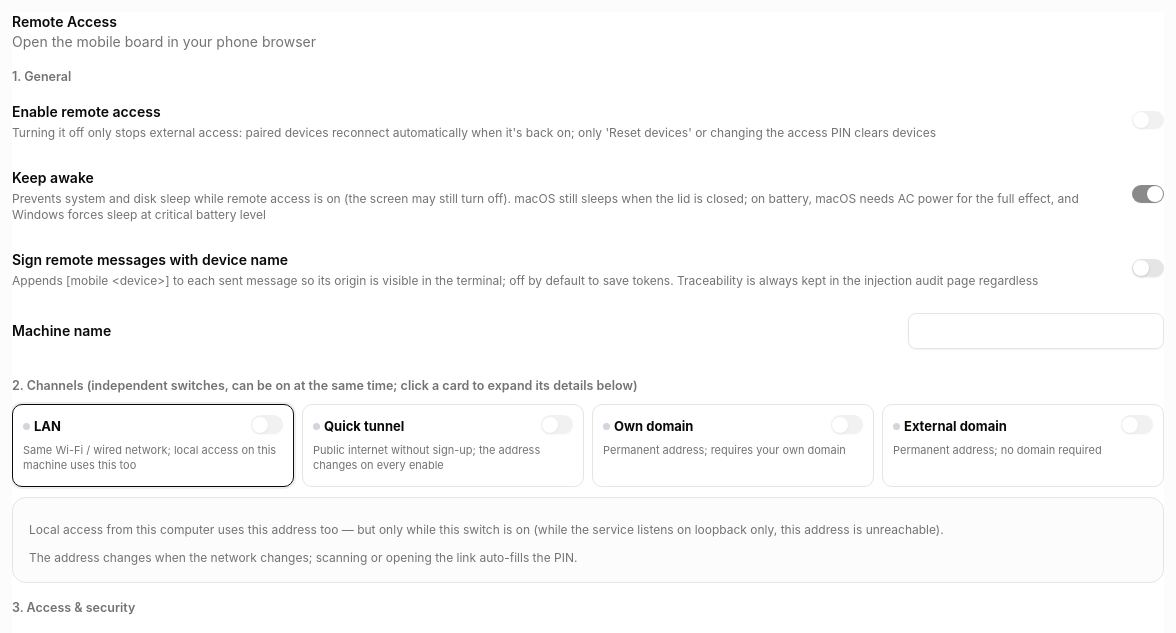
Test: RemoteSection 自有域名：Token 保存与教程 popover（M5 A6） › 自有域名详情含公网地址与二维码；错误态展示 error 原文
Click the button "Own domain Permanent address; requires your own domain" at (733, 445), box [592,404,874,486]
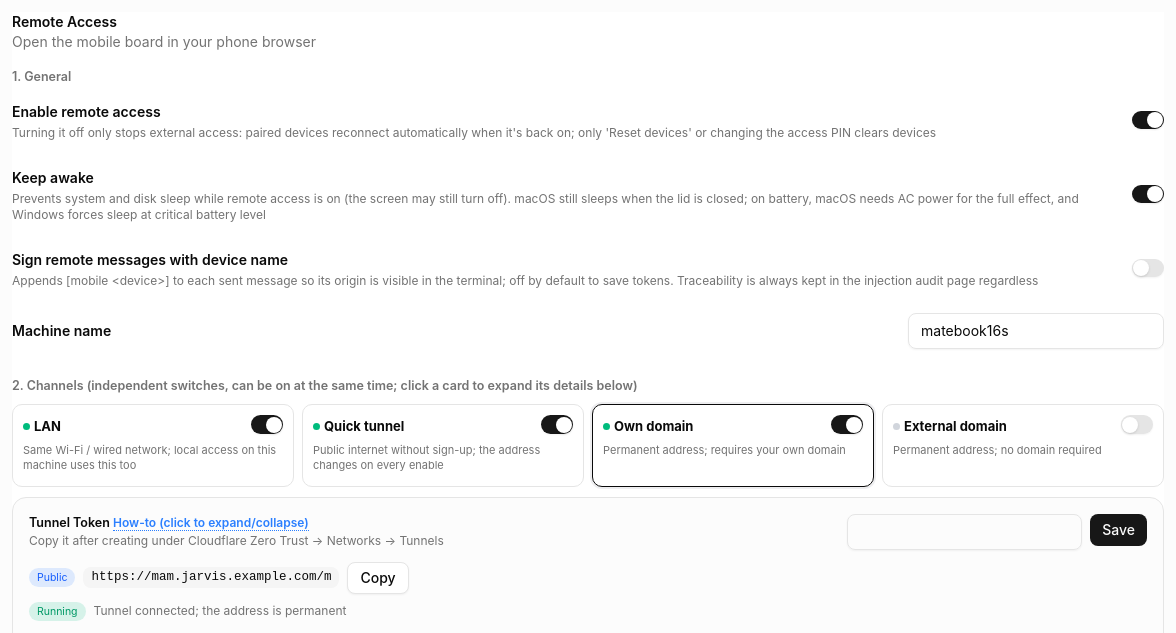
Check: the text "https://mam.jarvis.example.com/m" is shown, box [83,567,339,588]
